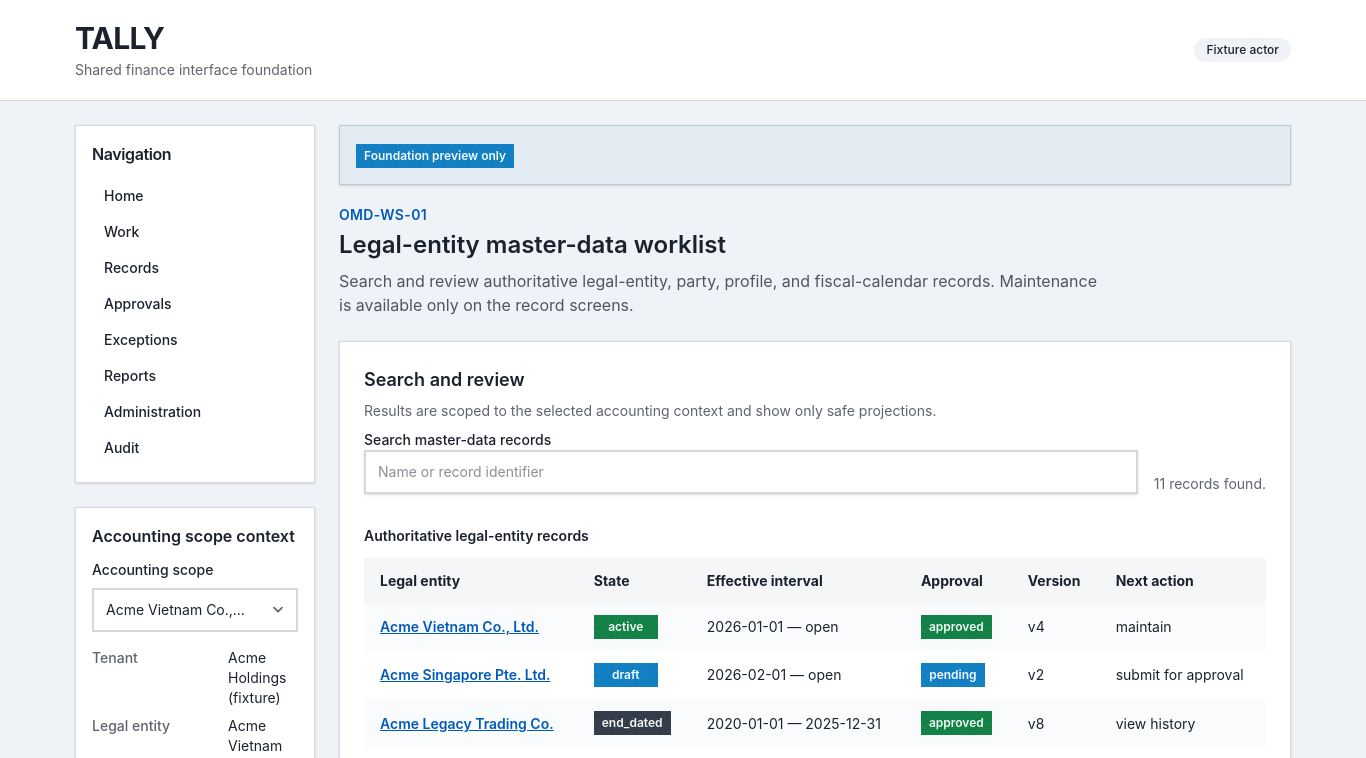
Test: application router › supports the OMD worklist and record mutation boundary
This screenshot has width=1366, height=758.
Check: the heading "Legal-entity master-data worklist" is shown, box [339,230,726,259]
Click the link "Acme Vietnam Co., Ltd.". click: (460, 627)
box: [380,618,539,635]
(page scrolled)
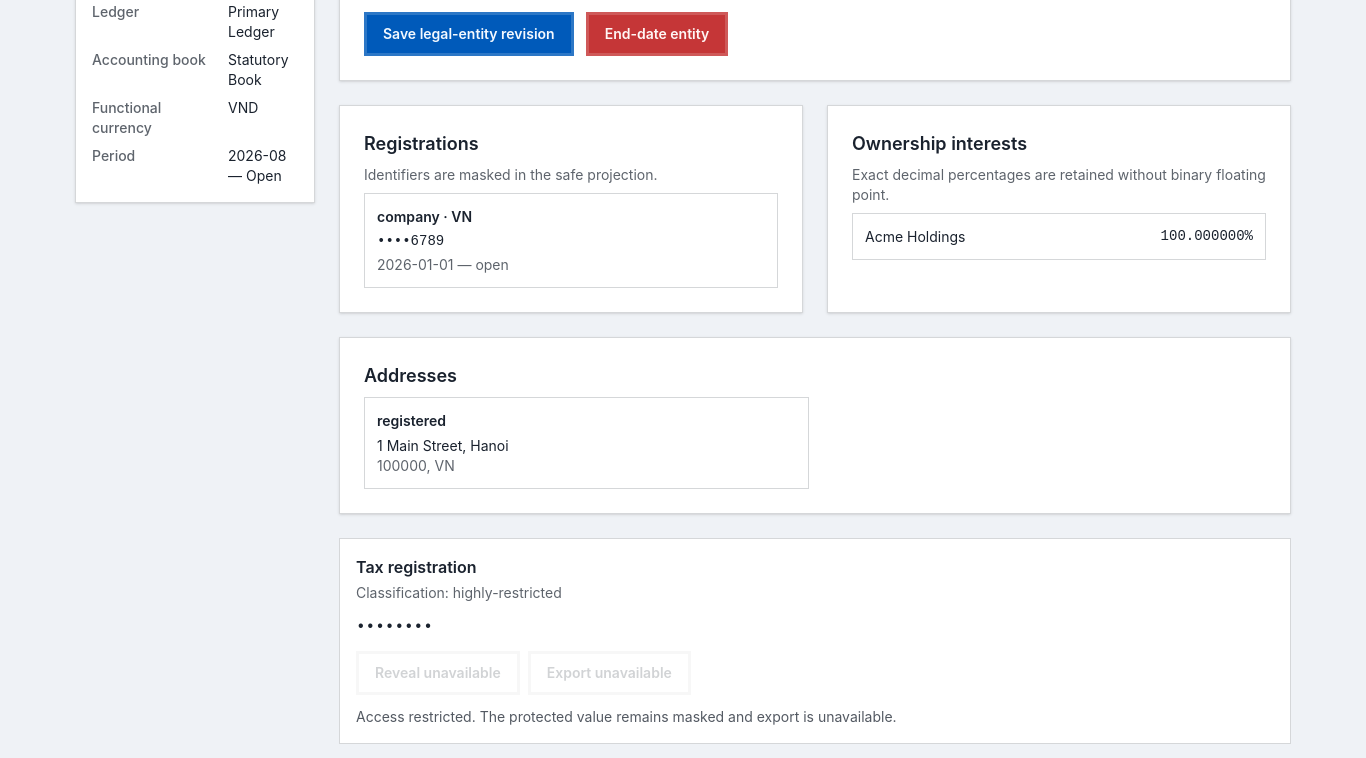
Check: the button "Save legal-entity revision" is shown, box [364,12,574,56]
Check: the text "Access restricted. The protected value remains masked and export is unavailable." is shown, box [356,708,897,725]
